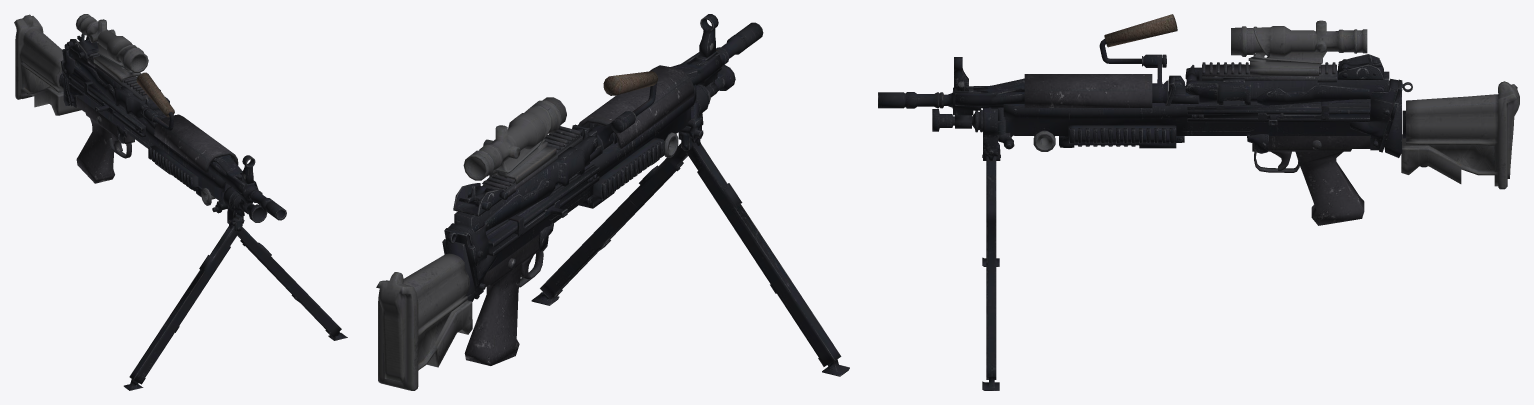
3 renders of one model, left to right at view 1: azimuth 30°, elevation 25°; view 2: azimuth 150°, elevation 25°; view 3: azimuth 270°, elevation 25°, orthographic. The views are drawn at different scales.
Parts seen in each view (by area): view 1: M249_low; view 2: M249_low; view 3: M249_low.
Boxes of the visible parts, box(x1,y1,x2,y2) form: M249_low: box(14, 14, 347, 390); M249_low: box(376, 14, 849, 390); M249_low: box(878, 14, 1519, 390).
Size of the model in its own units: 0.5045 by 0.5406 by 1.04.
1 material, 1 textured.
